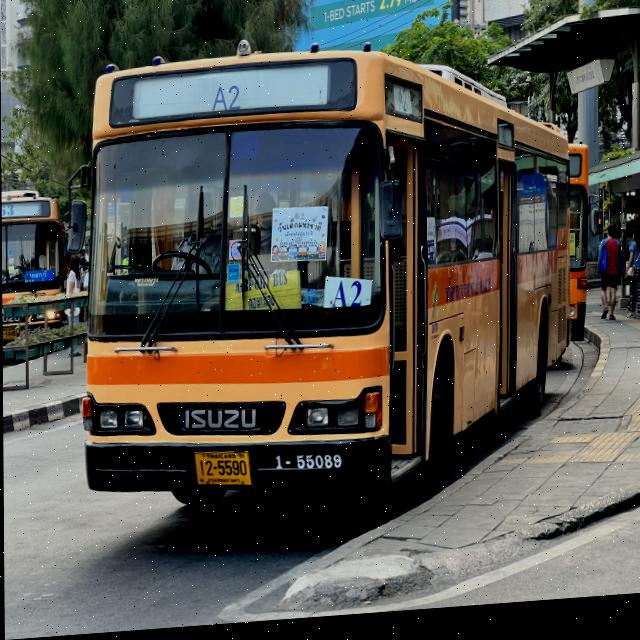BMTA-bus: (78, 36, 574, 521), (572, 150, 596, 352)
Bus-Line-Number: (199, 81, 254, 125)
Destination-Sign-Normal: (323, 277, 375, 316)
